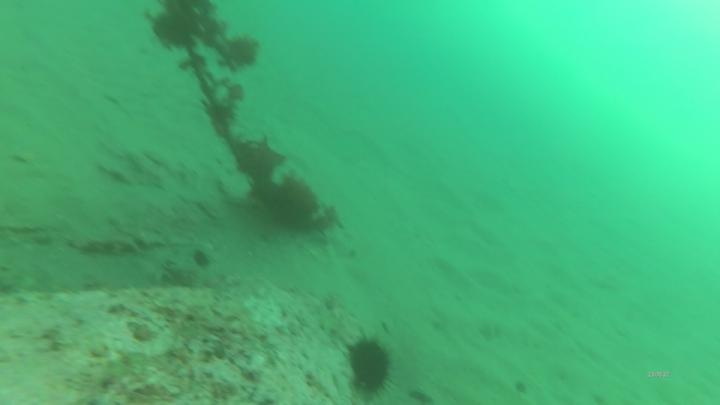echinus: (349, 339, 392, 390)
